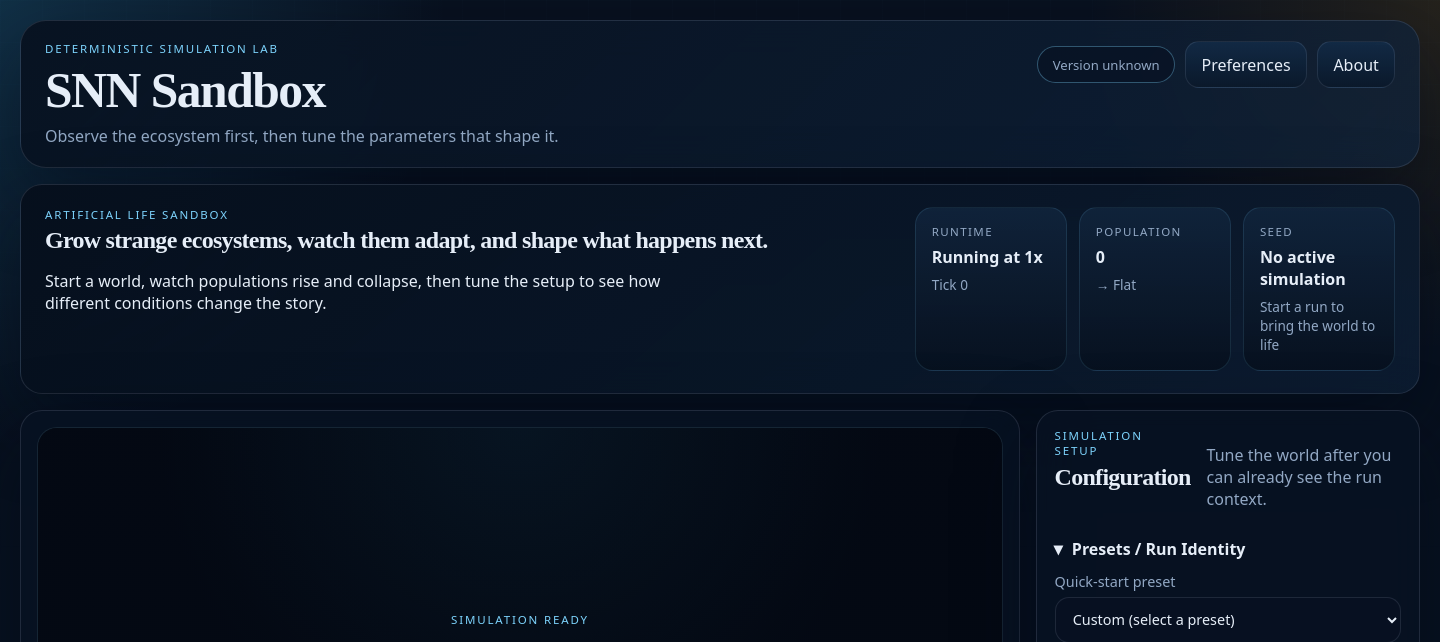
App › uses the resolved app version in the about dialog
Click the button "About" at (1356, 64), box left=1317, top=41, right=1395, bottom=88
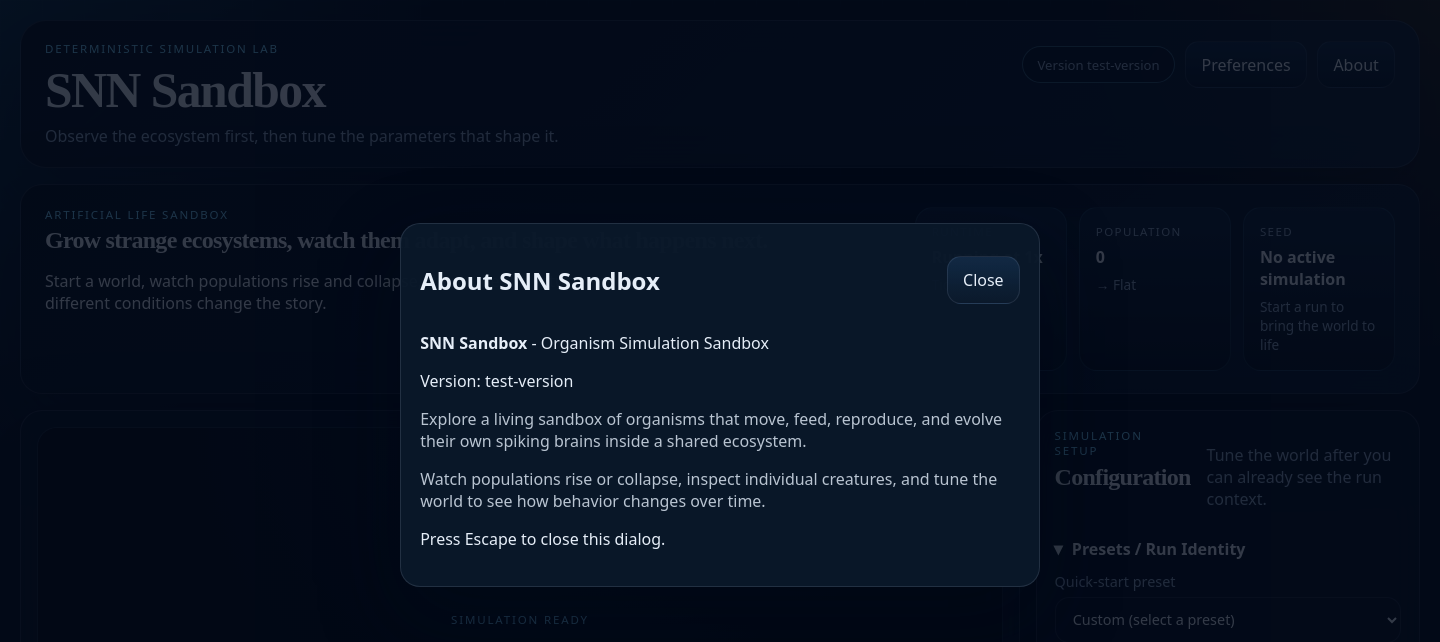
Expected: the text "Version: test-version" is shown, left=420, top=370, right=574, bottom=392
